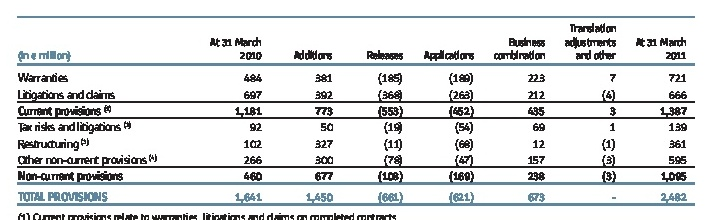table: (0, 0, 709, 220)
